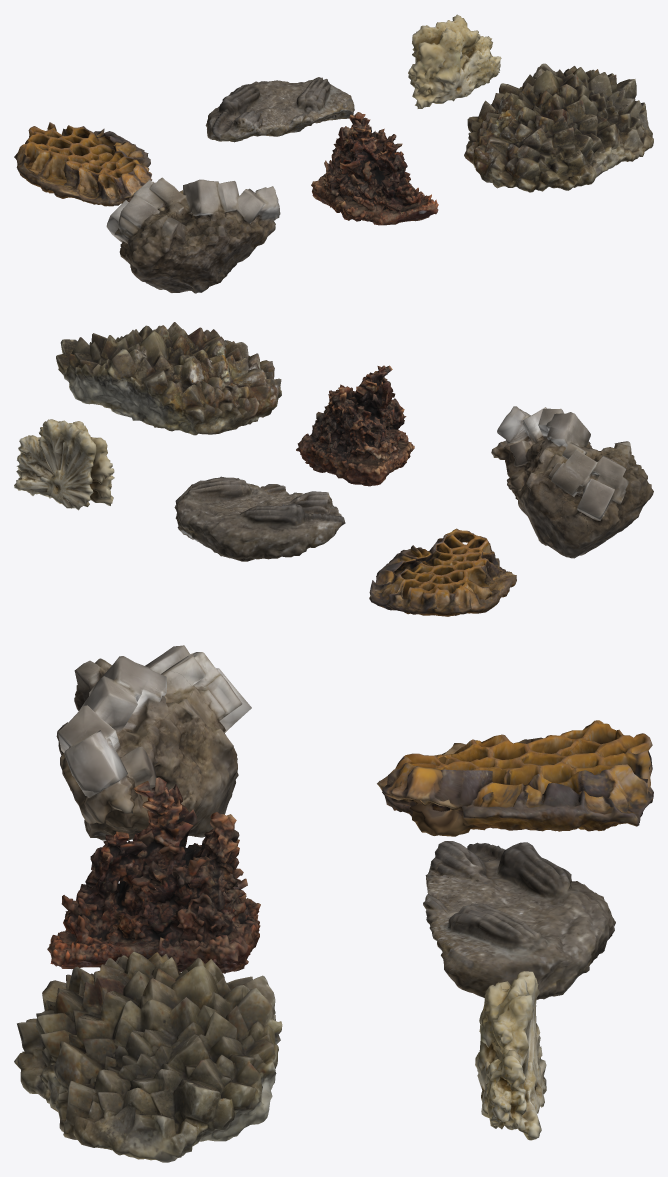
File: WinterAssets_SpecialRocks00.fbx
3 renders of one model, top to bottom at view 1: azimuth 30°, elevation 25°; view 2: azimuth 150°, elevation 25°; view 3: azimuth 270°, elevation 25°, orthographic. The views are drawn at different scales.
Parts seen in each view (by area): view 1: RockSpecial00_LOD0, RockSpecial02_LOD0, RockSpecial01_LOD0, RockSpecial05_LOD0, RockSpecial04_LOD0, RockSpecial03_LOD0; view 2: RockSpecial00_LOD0, RockSpecial02_LOD0, RockSpecial04_LOD0, RockSpecial05_LOD0, RockSpecial01_LOD0, RockSpecial03_LOD0; view 3: RockSpecial00_LOD0, RockSpecial02_LOD0, RockSpecial01_LOD0, RockSpecial05_LOD0, RockSpecial04_LOD0, RockSpecial03_LOD0.
Part boxes in pixels (box(x1,y1,x2,y2)): RockSpecial00_LOD0: box(464, 63, 653, 192); RockSpecial02_LOD0: box(106, 177, 280, 293); RockSpecial01_LOD0: box(311, 112, 438, 225); RockSpecial05_LOD0: box(14, 122, 152, 206); RockSpecial04_LOD0: box(205, 77, 354, 142); RockSpecial03_LOD0: box(408, 14, 501, 108); RockSpecial00_LOD0: box(56, 322, 281, 435); RockSpecial02_LOD0: box(491, 406, 653, 558); RockSpecial04_LOD0: box(174, 476, 345, 561); RockSpecial05_LOD0: box(369, 528, 516, 616); RockSpecial01_LOD0: box(296, 365, 414, 486); RockSpecial03_LOD0: box(14, 419, 114, 510); RockSpecial00_LOD0: box(14, 951, 282, 1162); RockSpecial02_LOD0: box(56, 645, 251, 840); RockSpecial01_LOD0: box(47, 777, 260, 973); RockSpecial05_LOD0: box(377, 720, 653, 836); RockSpecial04_LOD0: box(423, 841, 615, 999); RockSpecial03_LOD0: box(475, 971, 546, 1140).
Size of what is drawn, in the model's own units: 167 by 37.93 by 101.
